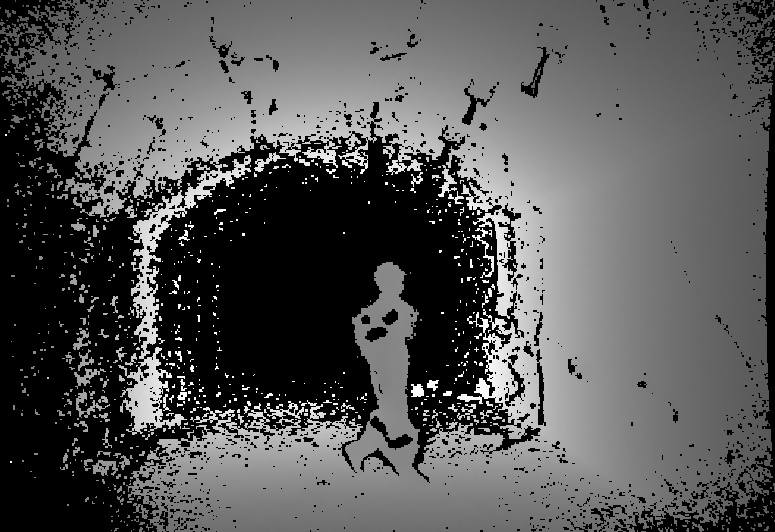person: (344, 262, 429, 480)
